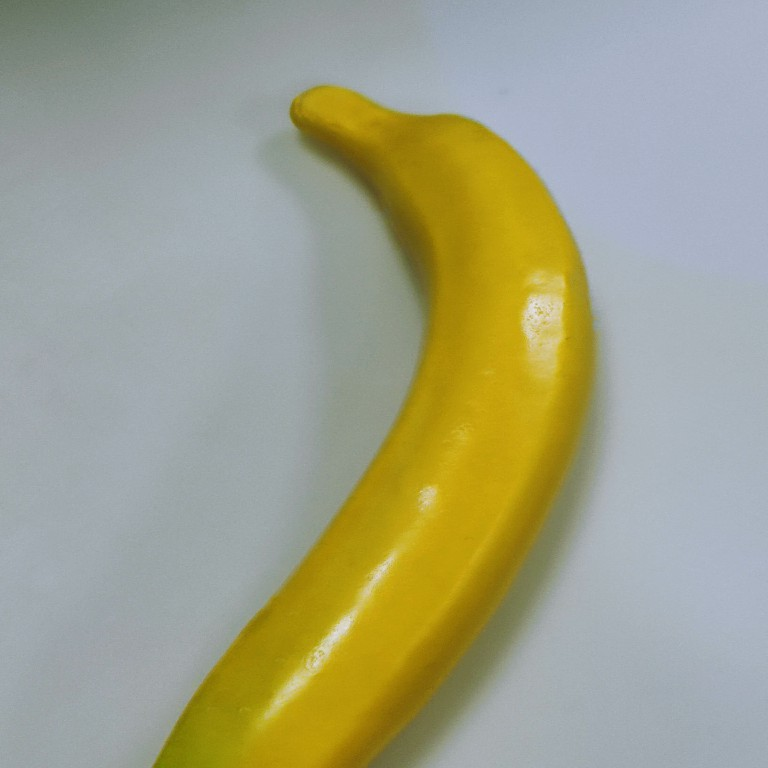fruit_banana: (132, 80, 598, 768)
